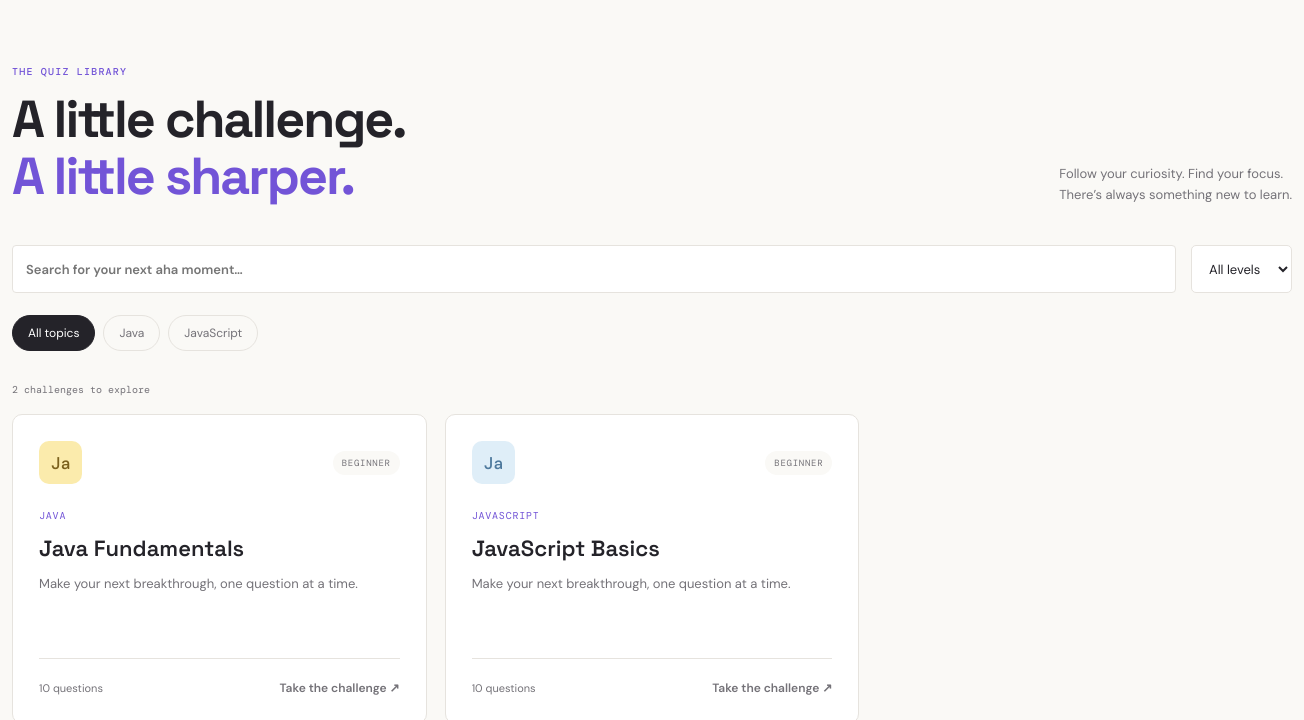
Test: choosing Java does not include JavaScript challenges
Expected: the heading "Java Fundamentals" is shown, [39, 534, 244, 562]
Click the button "Java" at (132, 333), box [104, 315, 160, 351]
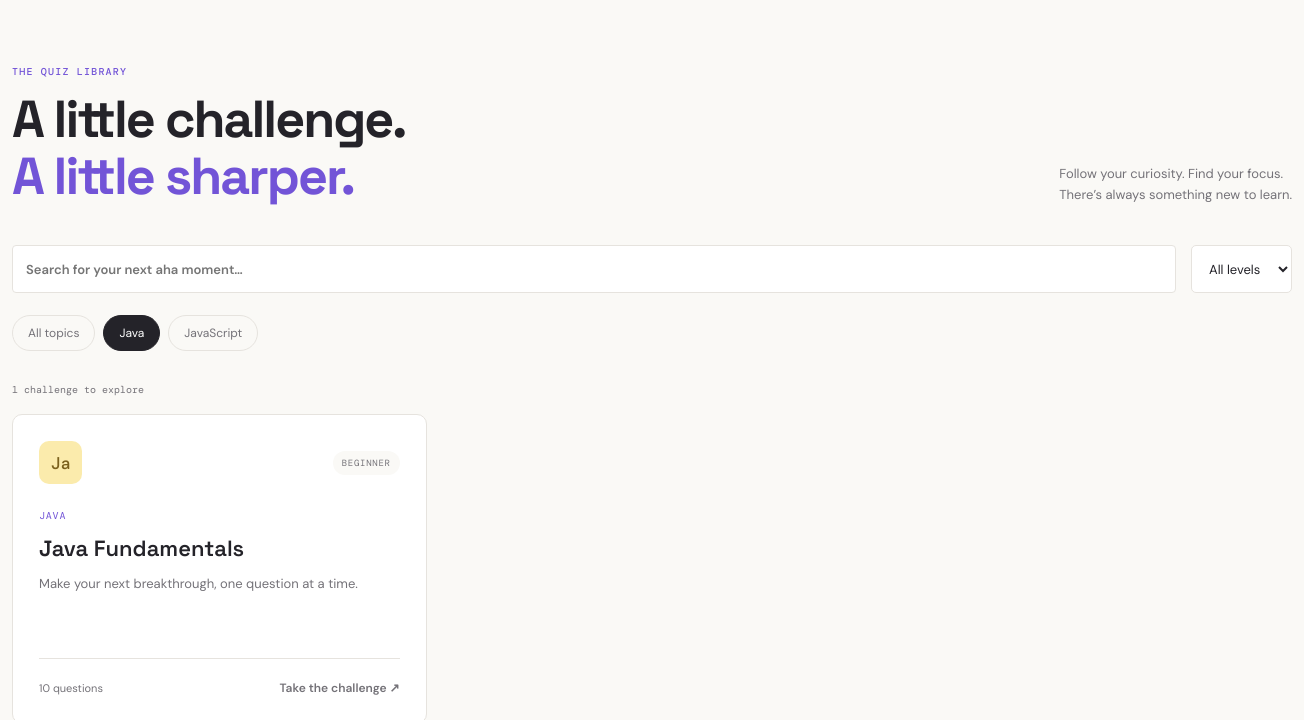
Expected: the heading "Java Fundamentals" is shown, [39, 534, 244, 562]
Expected: the heading "JavaScript Basics" is gone
